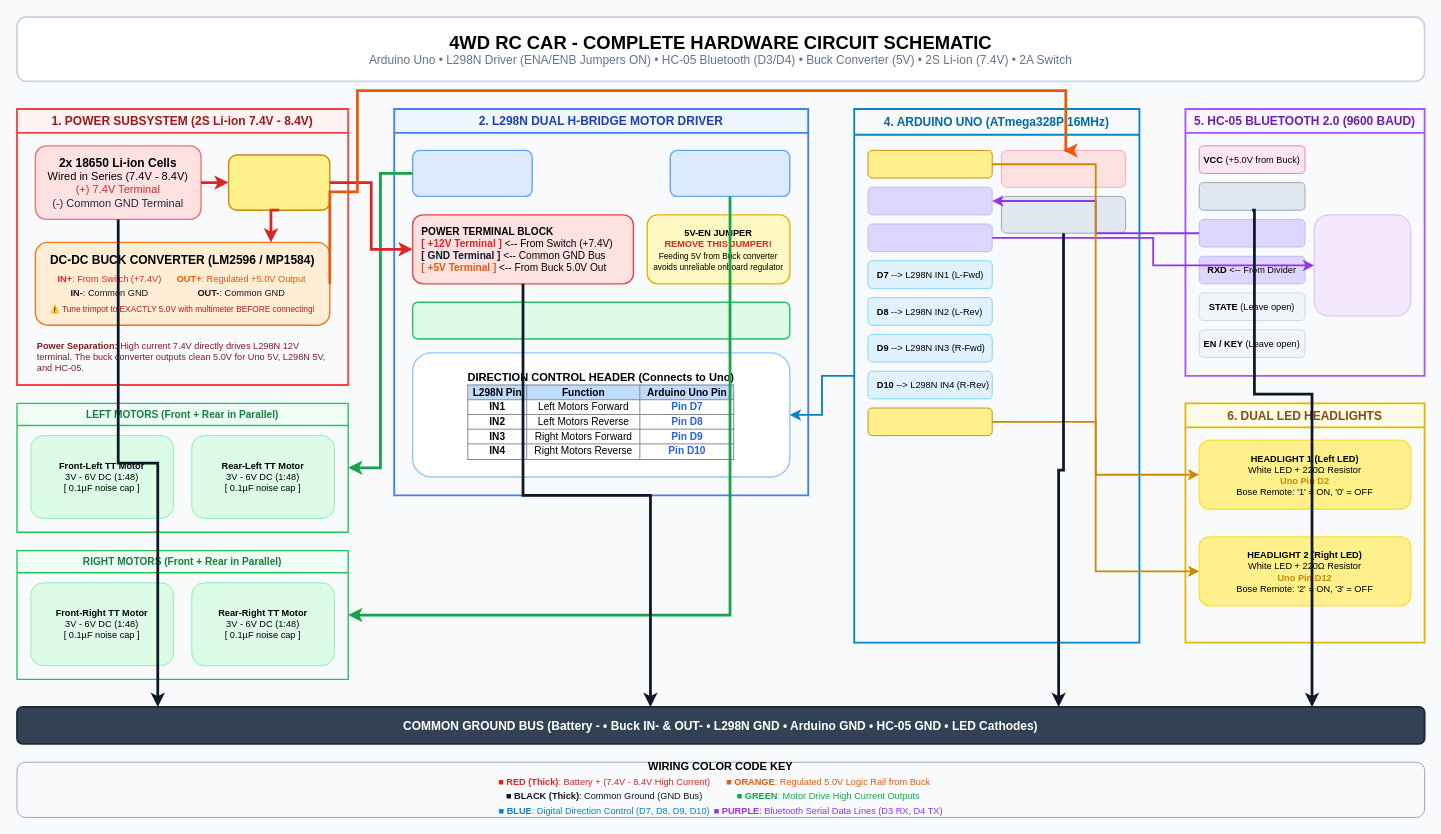
The diagram is 1441 pixels wide and 834 high, and some of its shapes have lost their labels. The centre of each missing label's shape, as x and y in pixels:
2A Master Switch SPST Rocker/Toggle In-line on Battery (+): the point at 279,182
3.3V Divider Uno D4 ──[1kΩ]──┬── RXD │ [2kΩ] │ GND: the point at 1362,265
5V Pin (VCC) From Buck 5.0V Out: the point at 1063,168
D12 (Right Headlight LED 2): the point at 929,421
D2 (Left Headlight LED 1): the point at 929,164
D3 (RX) <-- HC-05 TXD: the point at 929,200
D4 (TX) --> 1k/2k Divider: the point at 929,237
ENA & ENB JUMPERS: KEEP ON BOARD Full speed drive; no PWM wiring required!: the point at 601,320
GND (Common GND): the point at 1251,196
GND (Ground) Common GND Bus: the point at 1063,214
OUT 1 & OUT 2 (Left Motors Channel): the point at 472,173
OUT 3 & OUT 4 (Right Motors Channel): the point at 729,173
TXD --> Uno D3 (3.3V): the point at 1251,232
